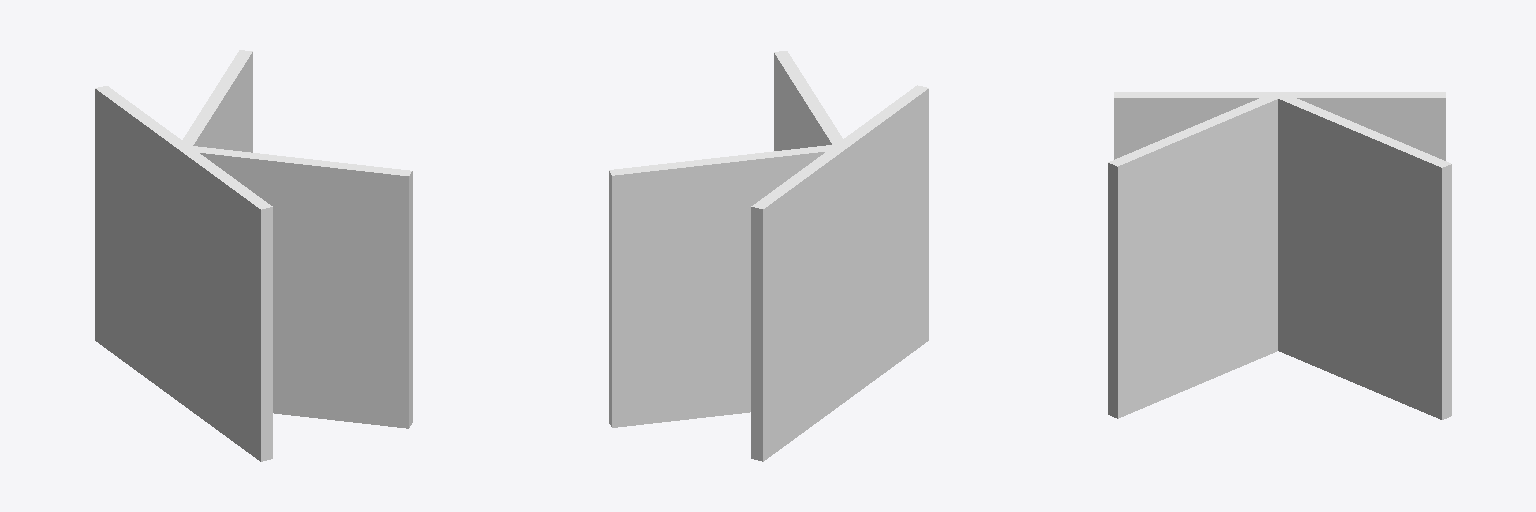
The picture shows the model from 3 angles: view 1: azimuth 30°, elevation 25°; view 2: azimuth 150°, elevation 25°; view 3: azimuth 270°, elevation 25°; orthographic projection.
Parts seen in each view (by area): view 1: wall_1_4, wall_3_16, wall_2_10, wall_1_3, wall_1_6, wall_1_5, wall_2_11, wall_2_12, wall_3_17, wall_3_18; view 2: wall_1_4, wall_2_9, wall_3_15, wall_1_3, wall_1_6, wall_1_5, wall_2_11, wall_3_17, wall_2_12, wall_3_18; view 3: wall_2_10, wall_3_15, wall_1_3, wall_2_9, wall_3_16, wall_1_6, wall_1_5, wall_2_11, wall_2_12, wall_3_18, wall_3_17.
Boxes of the visible parts, x1,y1,x2,y2 form: wall_1_4: [95, 89, 266, 461]; wall_3_16: [200, 153, 410, 428]; wall_2_10: [193, 52, 252, 152]; wall_1_3: [267, 207, 272, 459]; wall_1_6: [95, 87, 265, 209]; wall_1_5: [102, 86, 272, 207]; wall_2_11: [179, 50, 245, 147]; wall_2_12: [185, 51, 252, 148]; wall_3_17: [186, 145, 411, 173]; wall_3_18: [184, 148, 409, 175]; wall_1_4: [757, 89, 928, 461]; wall_2_9: [610, 152, 824, 427]; wall_3_15: [774, 53, 831, 150]; wall_1_3: [751, 207, 756, 459]; wall_1_6: [758, 87, 928, 208]; wall_1_5: [751, 85, 922, 207]; wall_2_11: [611, 147, 842, 175]; wall_3_17: [774, 51, 839, 147]; wall_2_12: [609, 145, 834, 172]; wall_3_18: [781, 51, 845, 146]; wall_2_10: [1278, 99, 1446, 419]; wall_3_15: [1113, 99, 1277, 418]; wall_1_3: [1114, 98, 1445, 160]; wall_2_9: [1447, 164, 1451, 417]; wall_3_16: [1108, 163, 1112, 416]; wall_1_6: [1114, 92, 1445, 94]; wall_1_5: [1114, 95, 1445, 97]; wall_2_11: [1279, 93, 1450, 165]; wall_2_12: [1274, 95, 1445, 167]; wall_3_18: [1108, 93, 1277, 163]; wall_3_17: [1113, 95, 1282, 166].
Bounding box in the file's own units: 98.95 × 152 × 188.